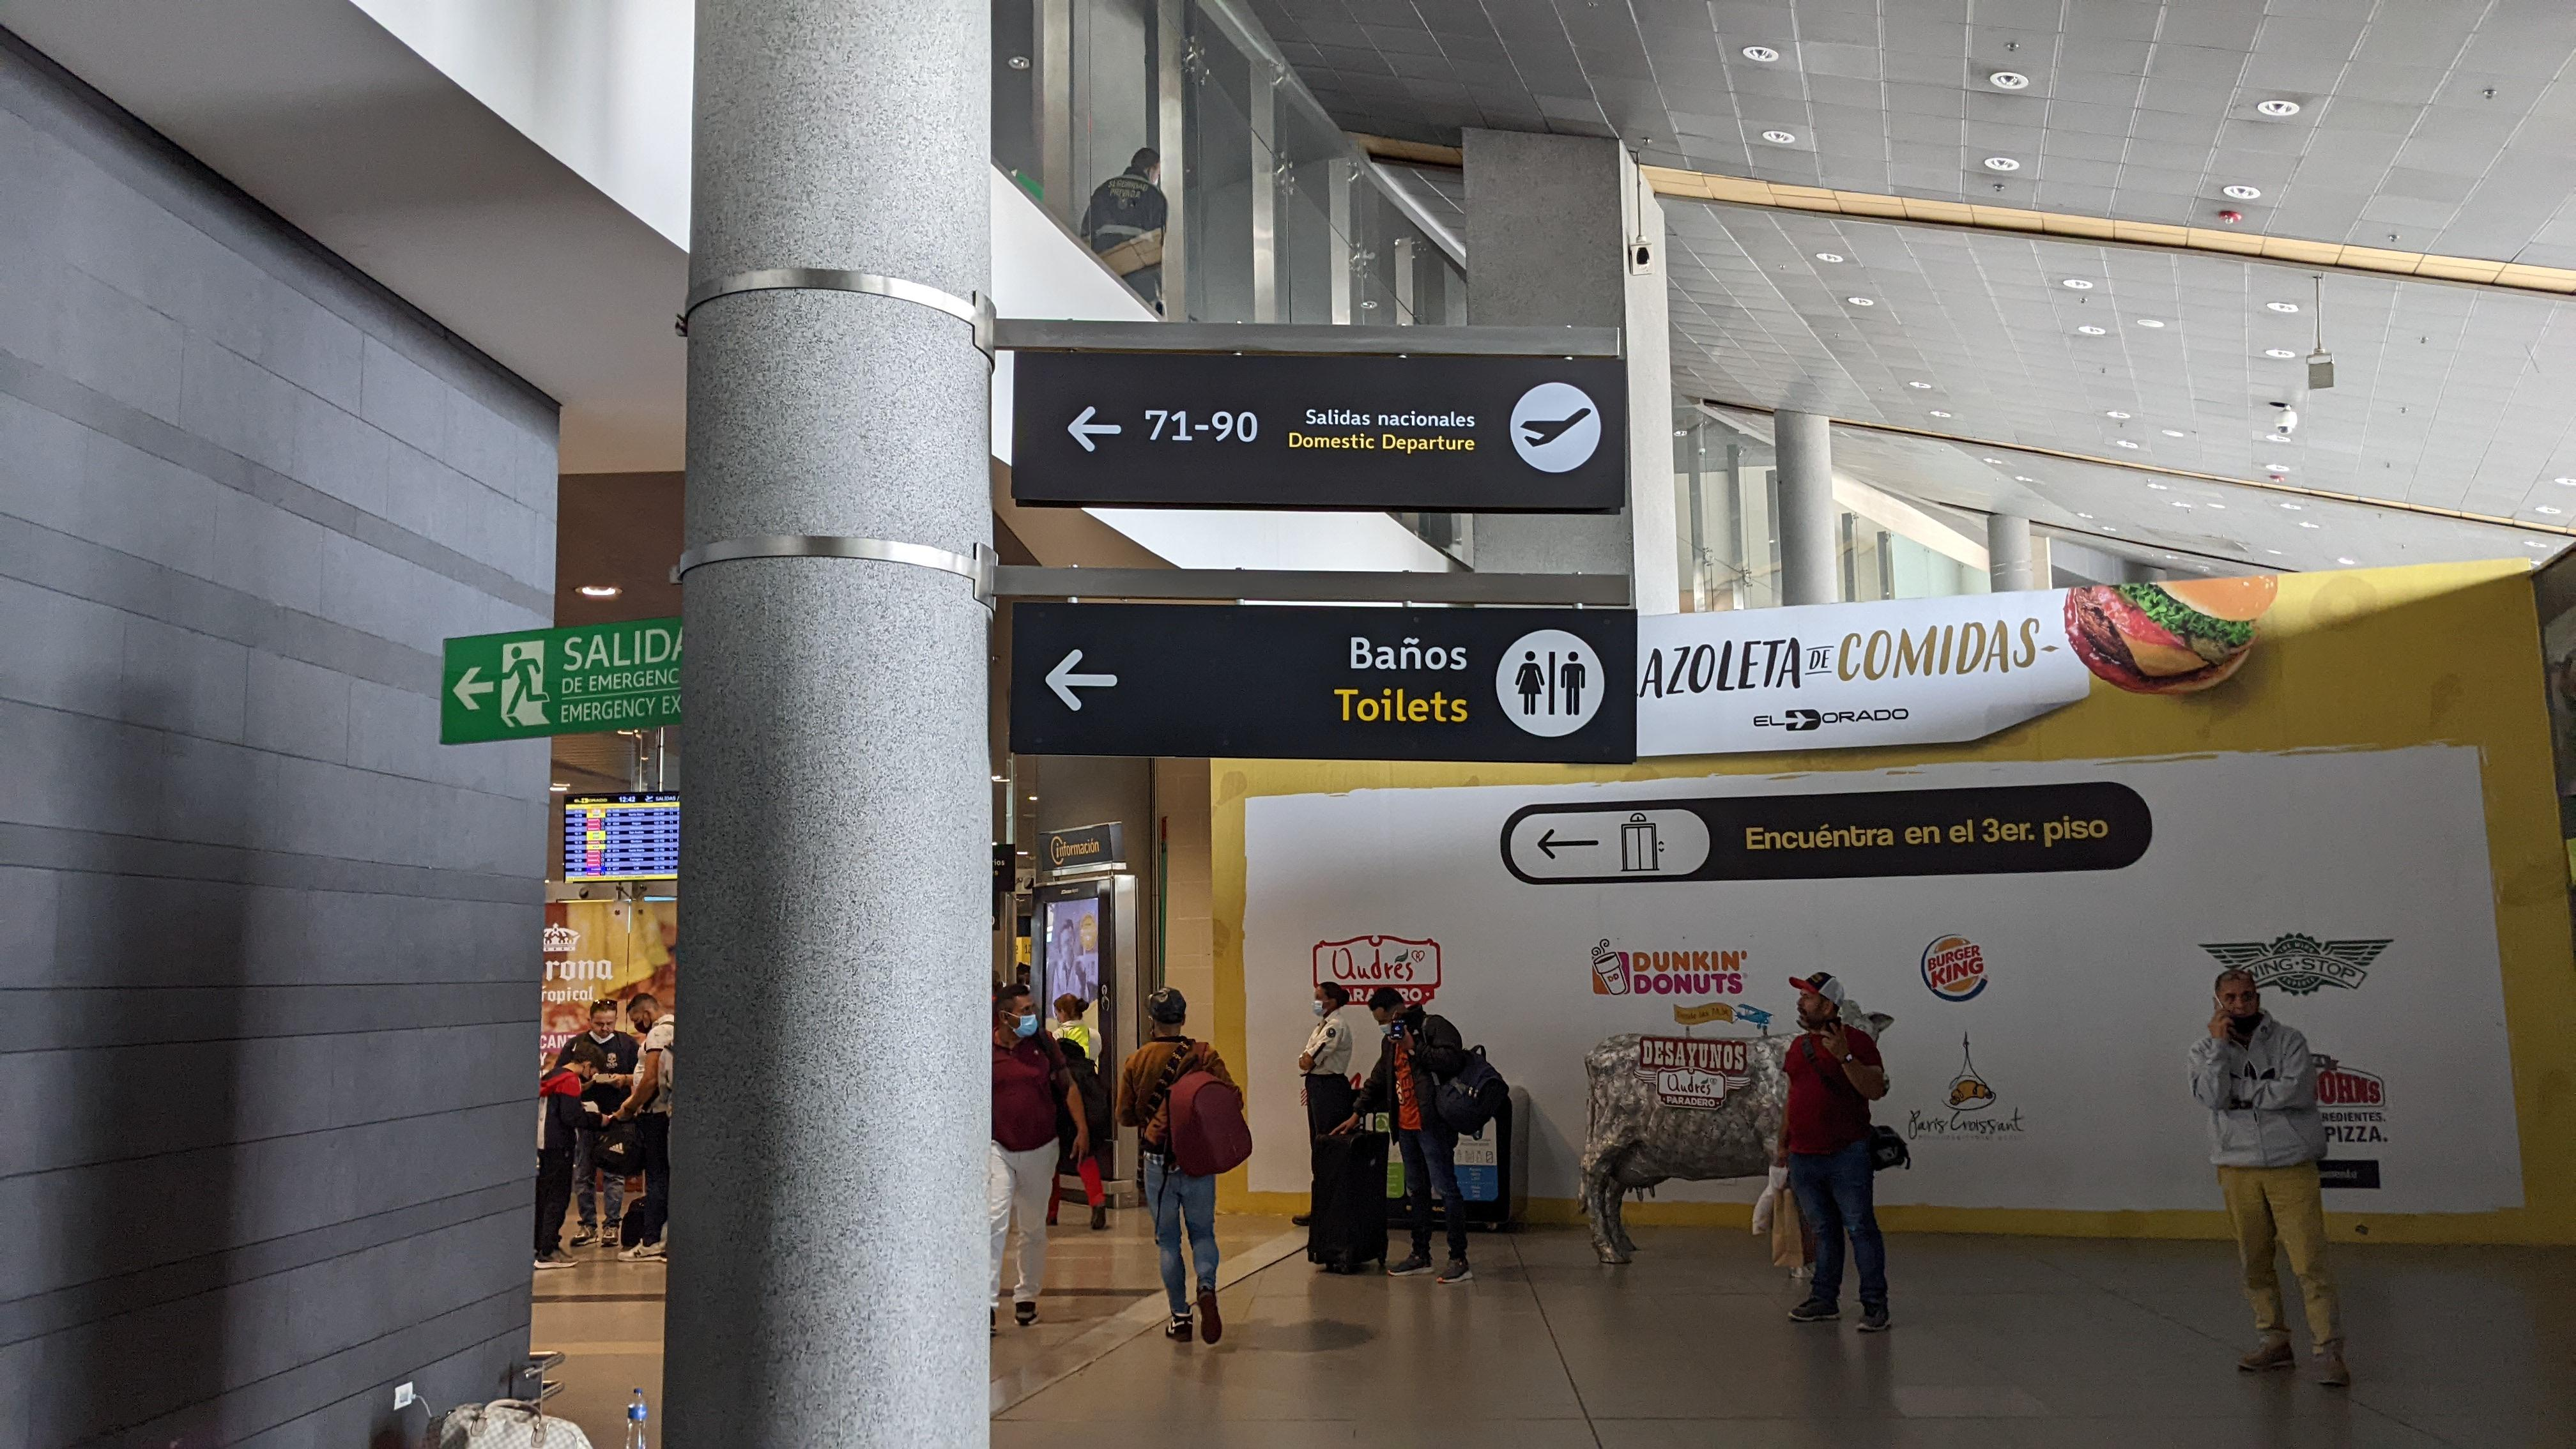airplane symbol: (1520, 405, 1592, 449)
bathrooms: (1513, 648, 1589, 718)
emergency exit: (497, 640, 554, 729)
emergency left arrow: (451, 663, 495, 713)
left arrow: (1044, 646, 1120, 713), (1065, 403, 1123, 455)
thin left arrow: (1536, 826, 1568, 862)
